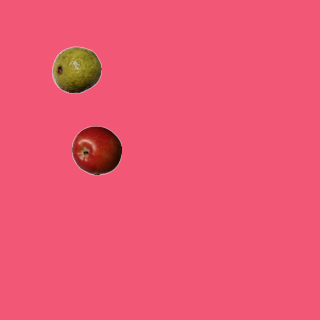Apple Braeburn: (71, 125, 121, 175)
Guava: (51, 44, 101, 94)
